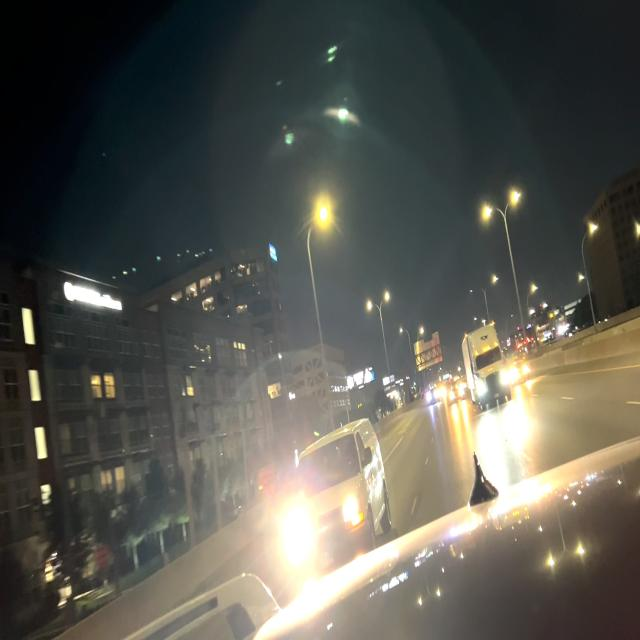back-of-sign: (413, 331, 443, 374)
